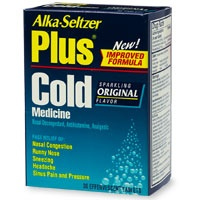grozi_99: (22, 3, 172, 198)
